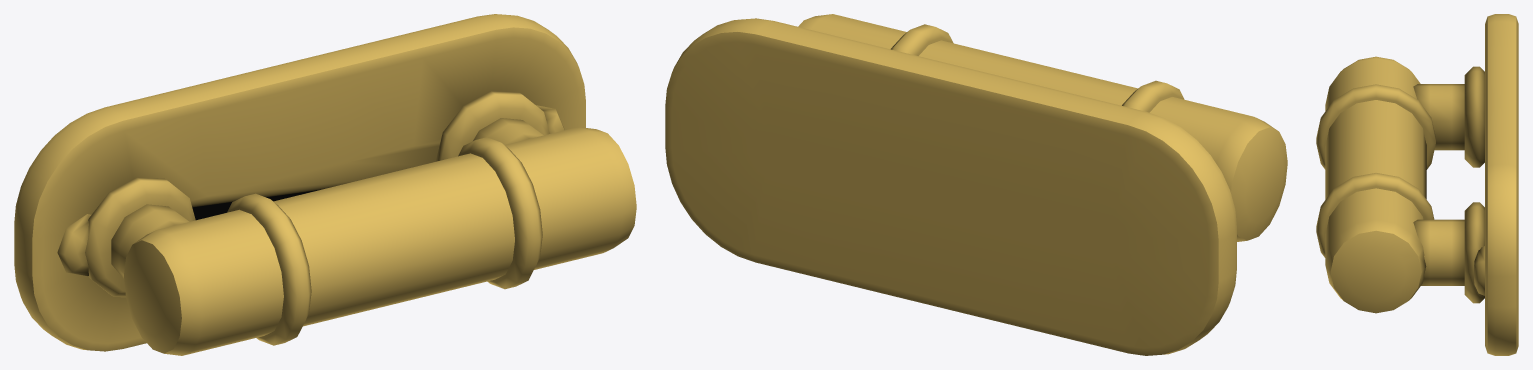
The model's file is machine_base_handle.glb.
3 renders of one model, left to right at view 1: azimuth 30°, elevation 25°; view 2: azimuth 150°, elevation 25°; view 3: azimuth 270°, elevation 25°, orthographic. The views are drawn at different scales.
Parts seen in each view (by area): view 1: BaseHandle; view 2: BaseHandle; view 3: BaseHandle.
Boxes of the visible parts, x1,y1,x2,y2 form: BaseHandle: [14, 14, 636, 355]; BaseHandle: [665, 14, 1287, 355]; BaseHandle: [1316, 14, 1518, 355].
Bounding box in the file's own units: 0.03 × 0.012 × 0.012.
